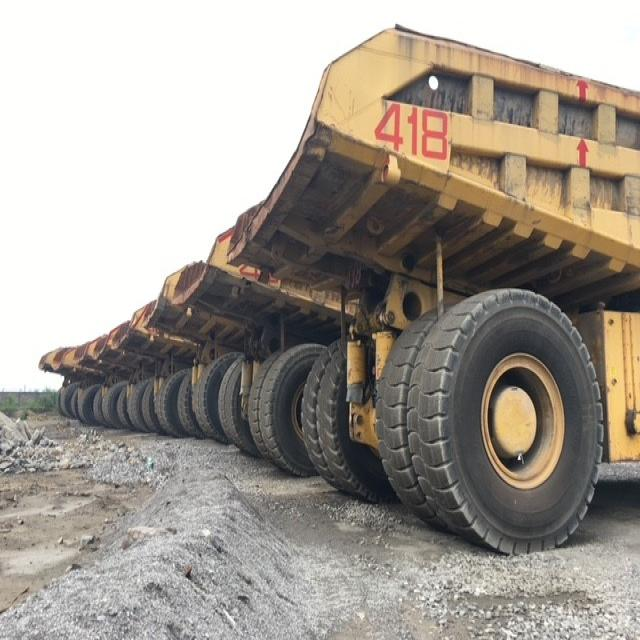dump_truck: (223, 19, 639, 558)
